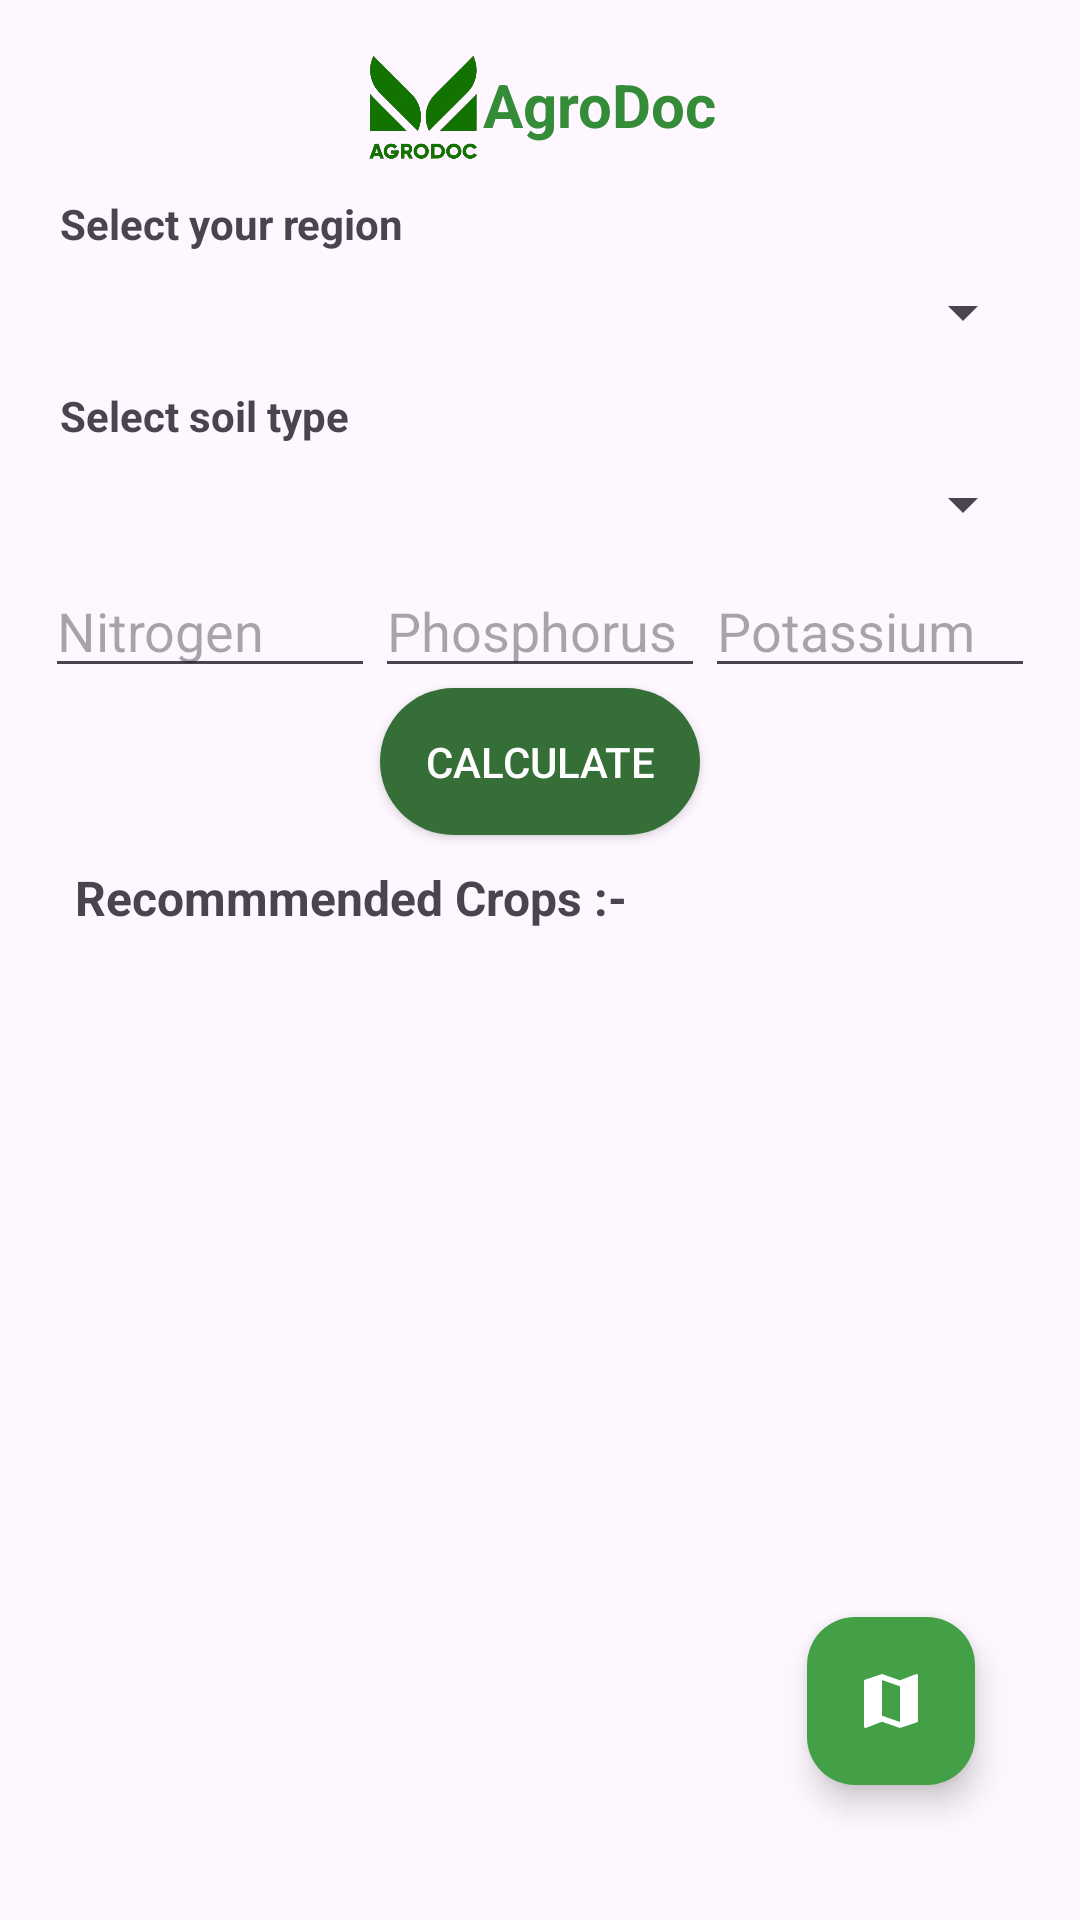

Icons on this 1080w x 1920h Android screen, each with the point to tap as [x,y]:
map: [891,1701]
